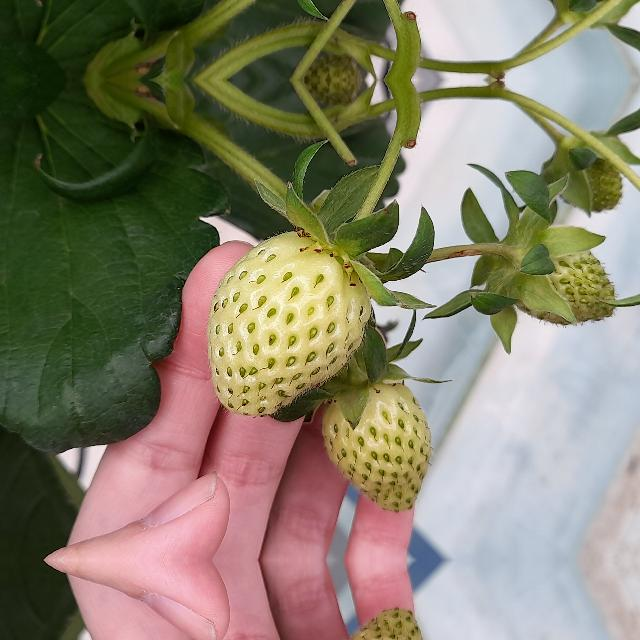Health_25: (208, 228, 370, 416), (319, 372, 436, 516), (508, 235, 616, 322), (319, 604, 436, 640)
